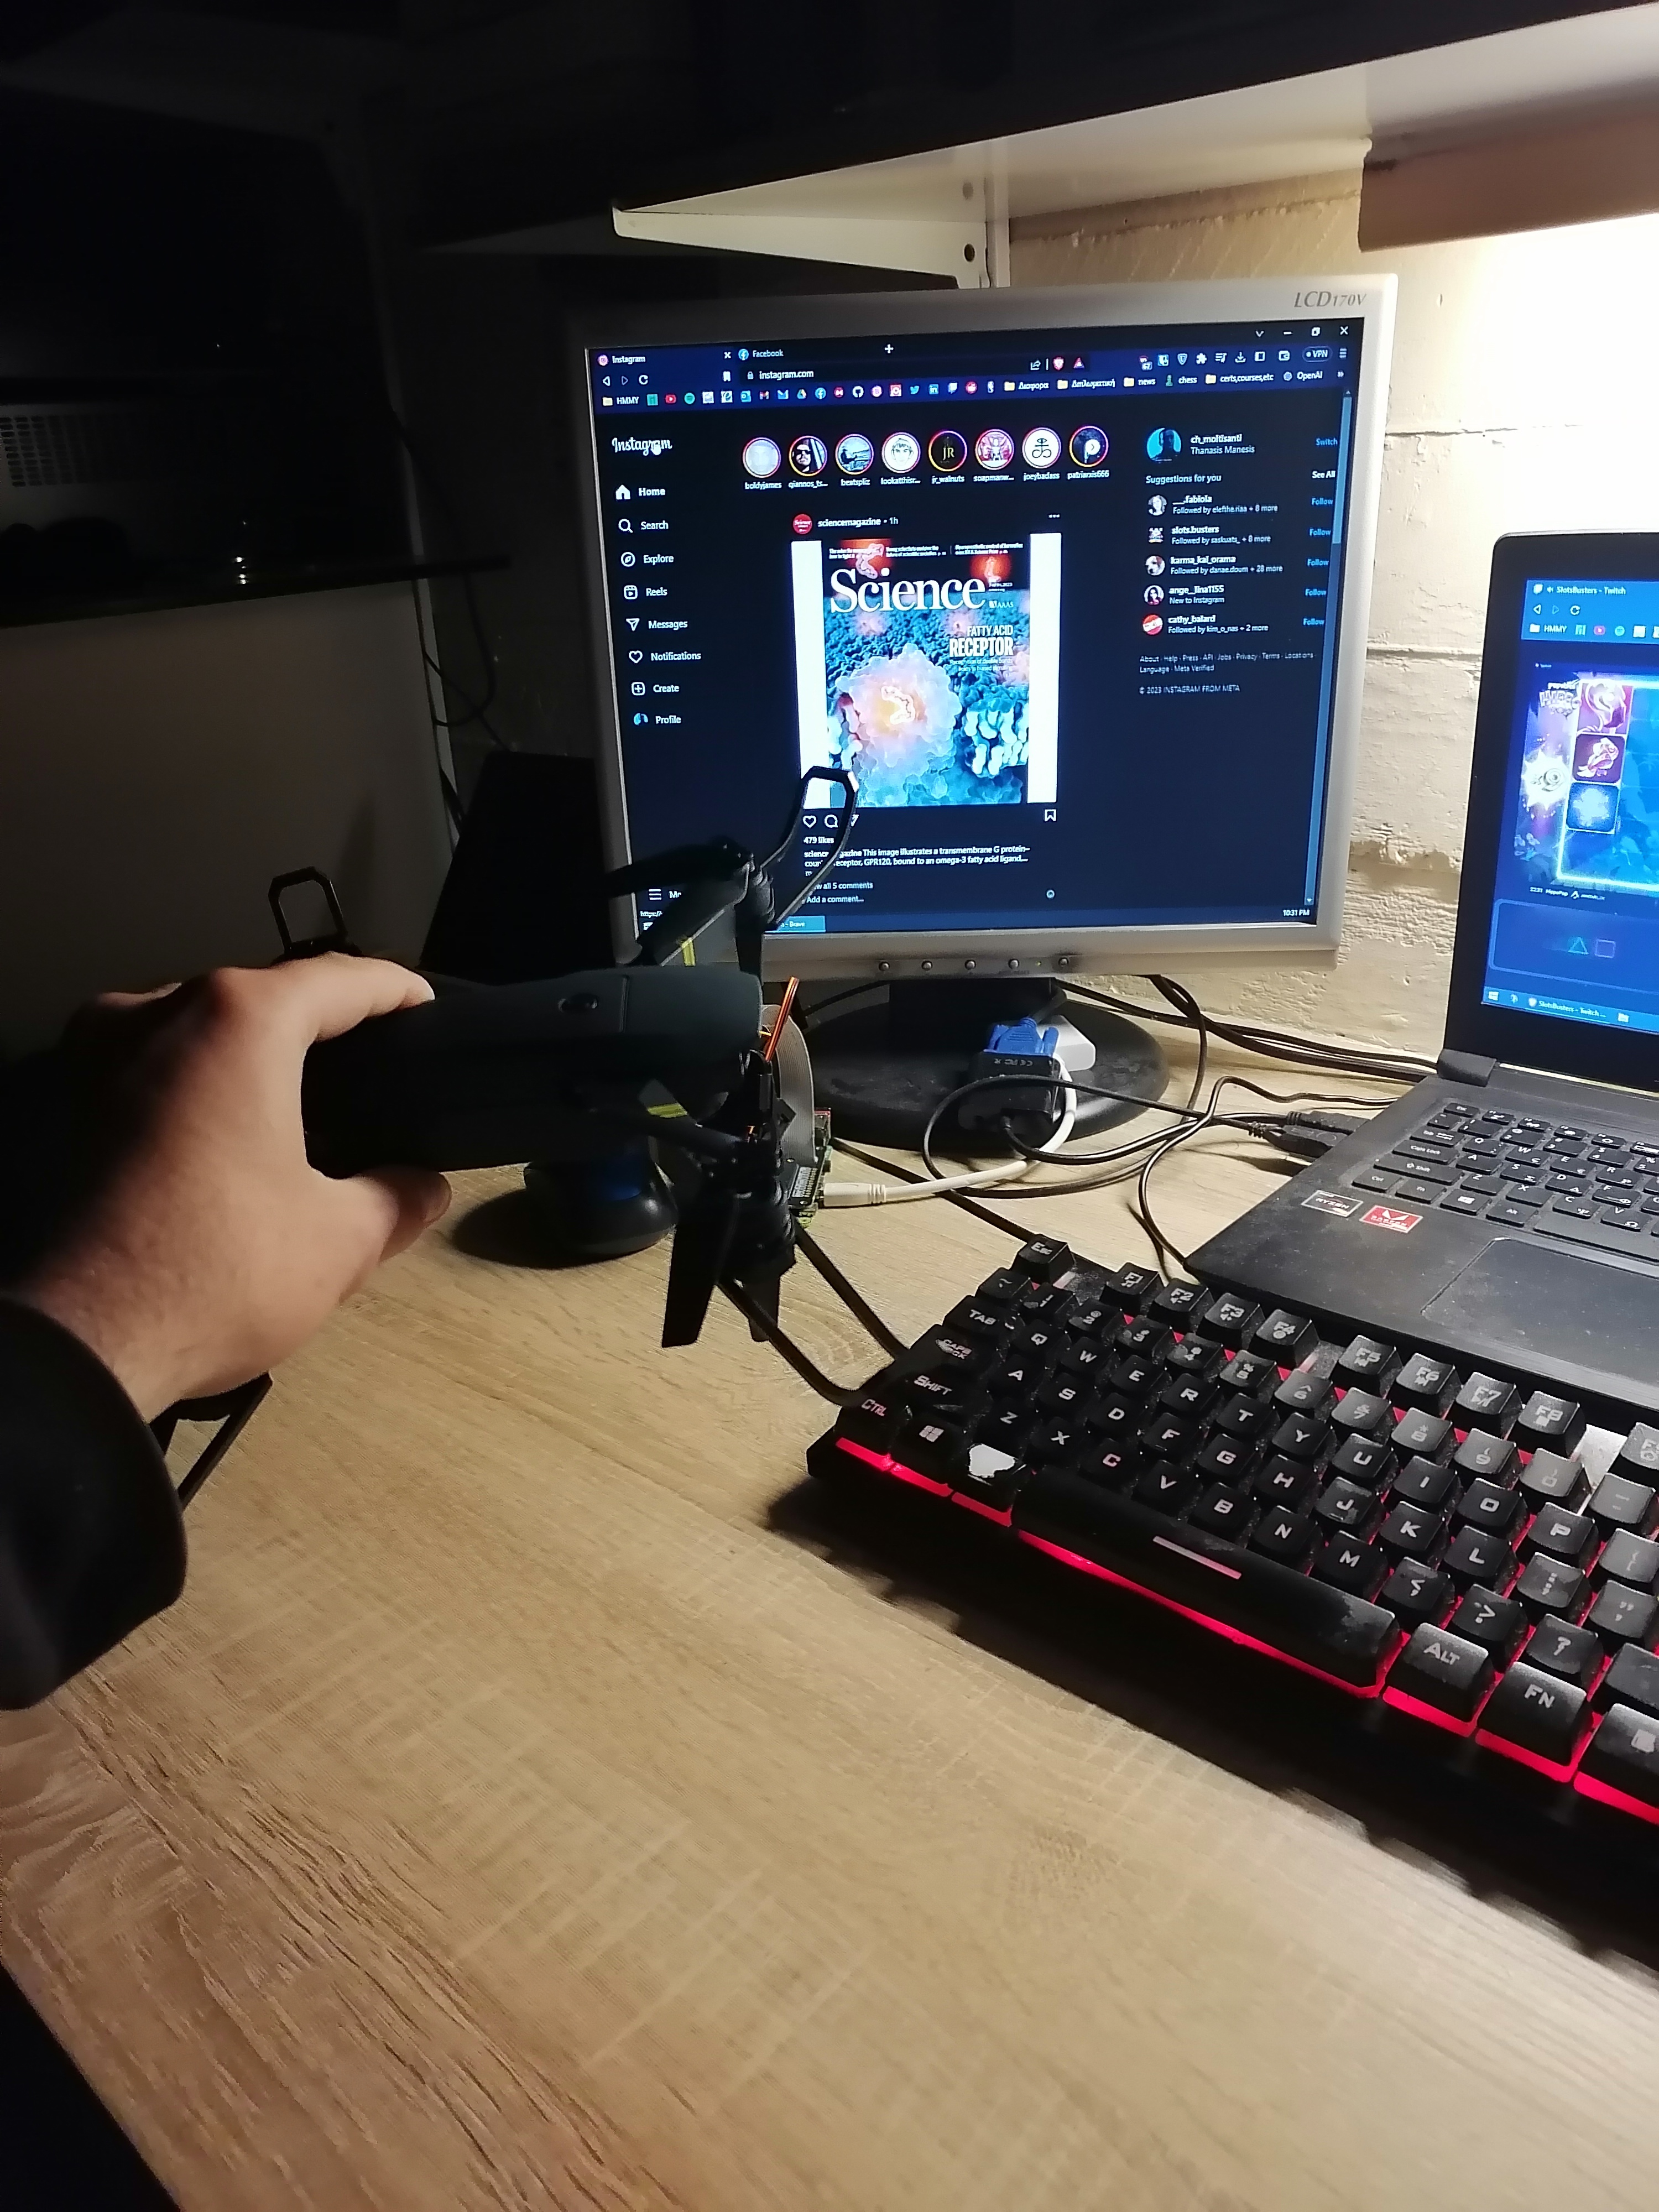drone: (223, 864, 856, 1372)
